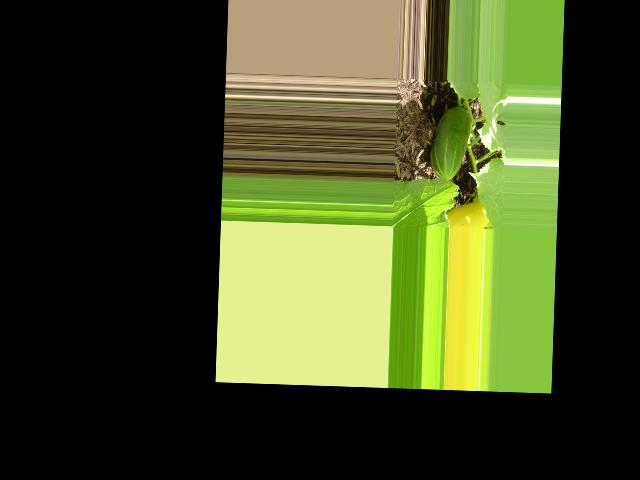cucumber: (428, 105, 471, 181)
